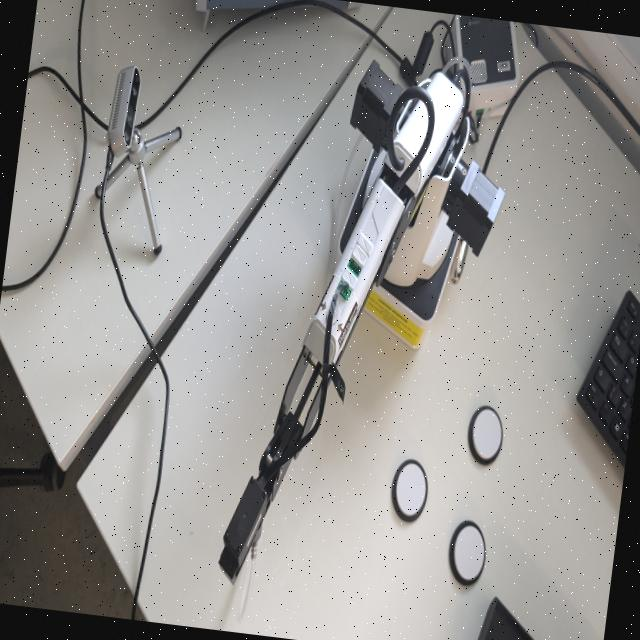Robot-end-effector-HF8z: (211, 464, 274, 592)
